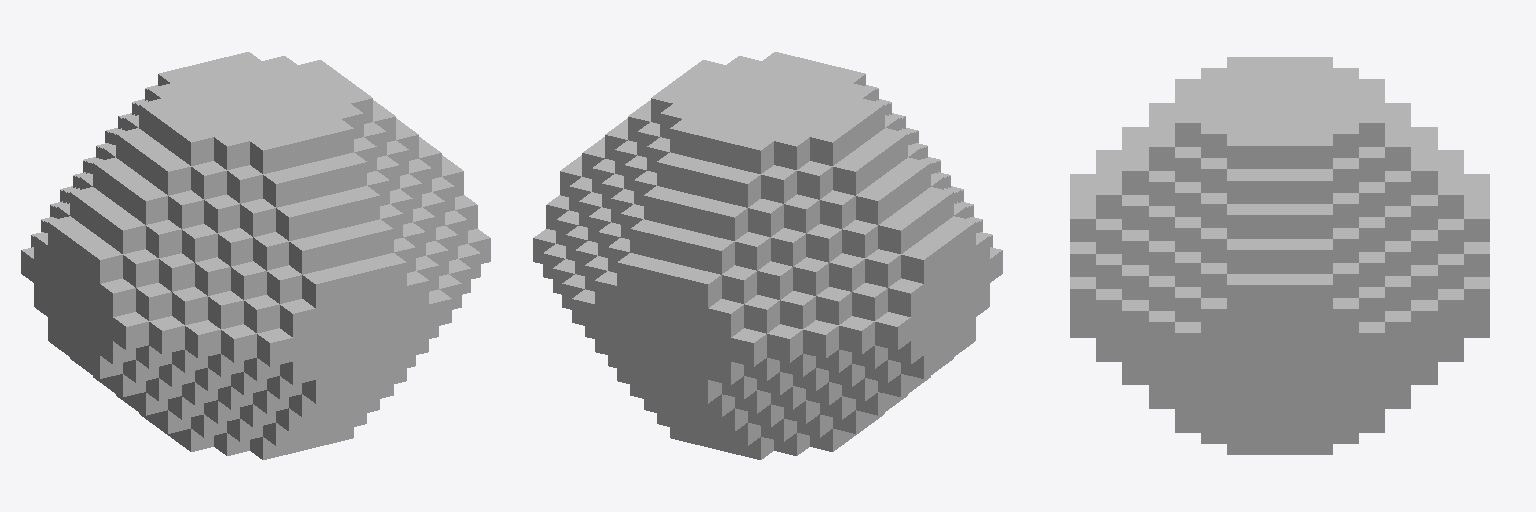
The model's file is Bala.obj.
3 renders of one model, left to right at view 1: azimuth 30°, elevation 25°; view 2: azimuth 150°, elevation 25°; view 3: azimuth 270°, elevation 25°, orthographic.
Parts seen in each view (by area): view 1: object 1; view 2: object 1; view 3: object 1.
Boxes of the visible parts, <box> form: object 1: <box>21,52,490,459</box>; object 1: <box>533,52,1002,459</box>; object 1: <box>1070,57,1489,454</box>.
Bounding box in the file's own units: 1.6 × 1.3 × 1.6.